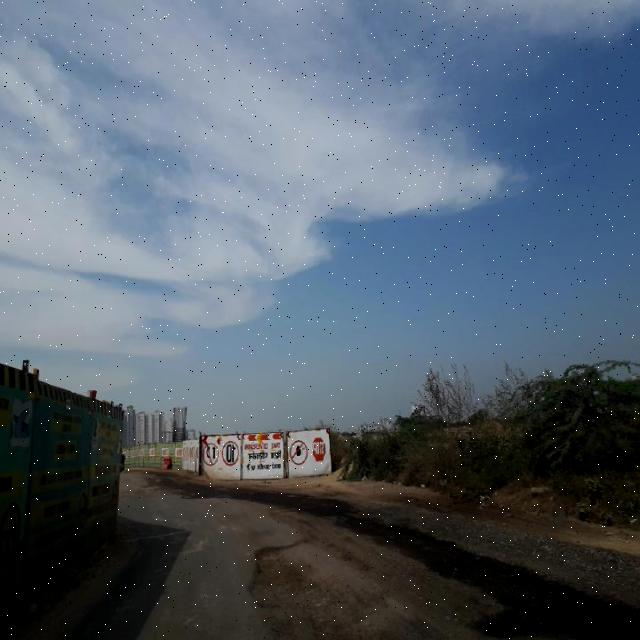D40: (246, 487, 640, 637)
